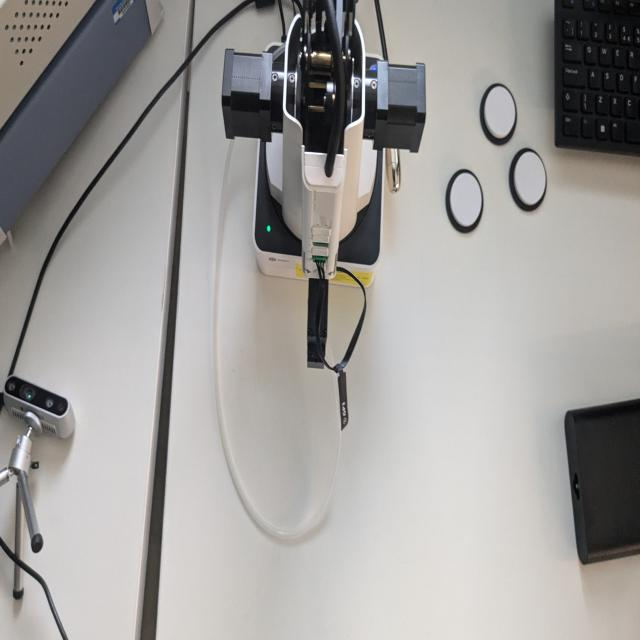Robot-end-effector-HF8z: (302, 275, 334, 367)
